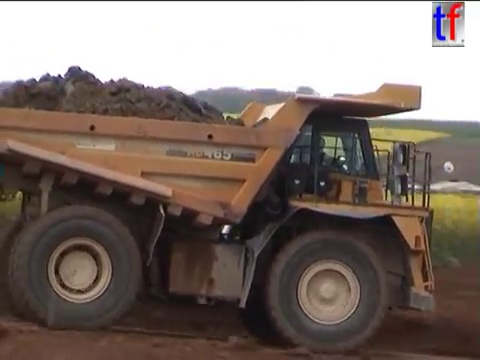truck: (1, 78, 454, 357)
